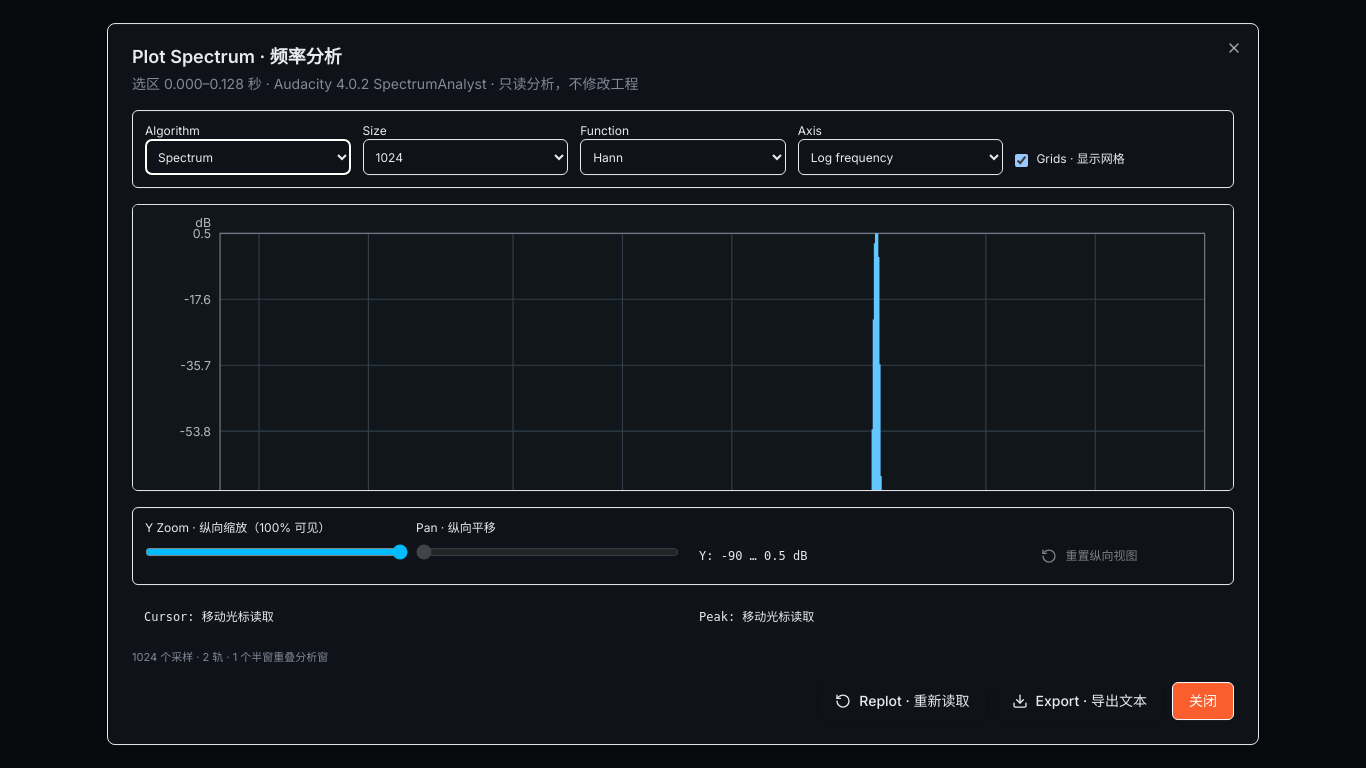
Test: PlotSpectrumDialog › loads real selected PCM with official defaults and exposes plot, algorithm and export controls
Expected: the picture named "Spectrum 频谱分析图，1 个分析窗" is shown, top-left (141, 213), bottom-right (1225, 492)
Expected: the dropdown named "FFT Size" shows "1024", top-left (363, 139), bottom-right (568, 175)
Select "Standard Autocorrelation" in the dropdown named "分析算法" at (248, 157), box top-left (145, 139), bottom-right (351, 175)
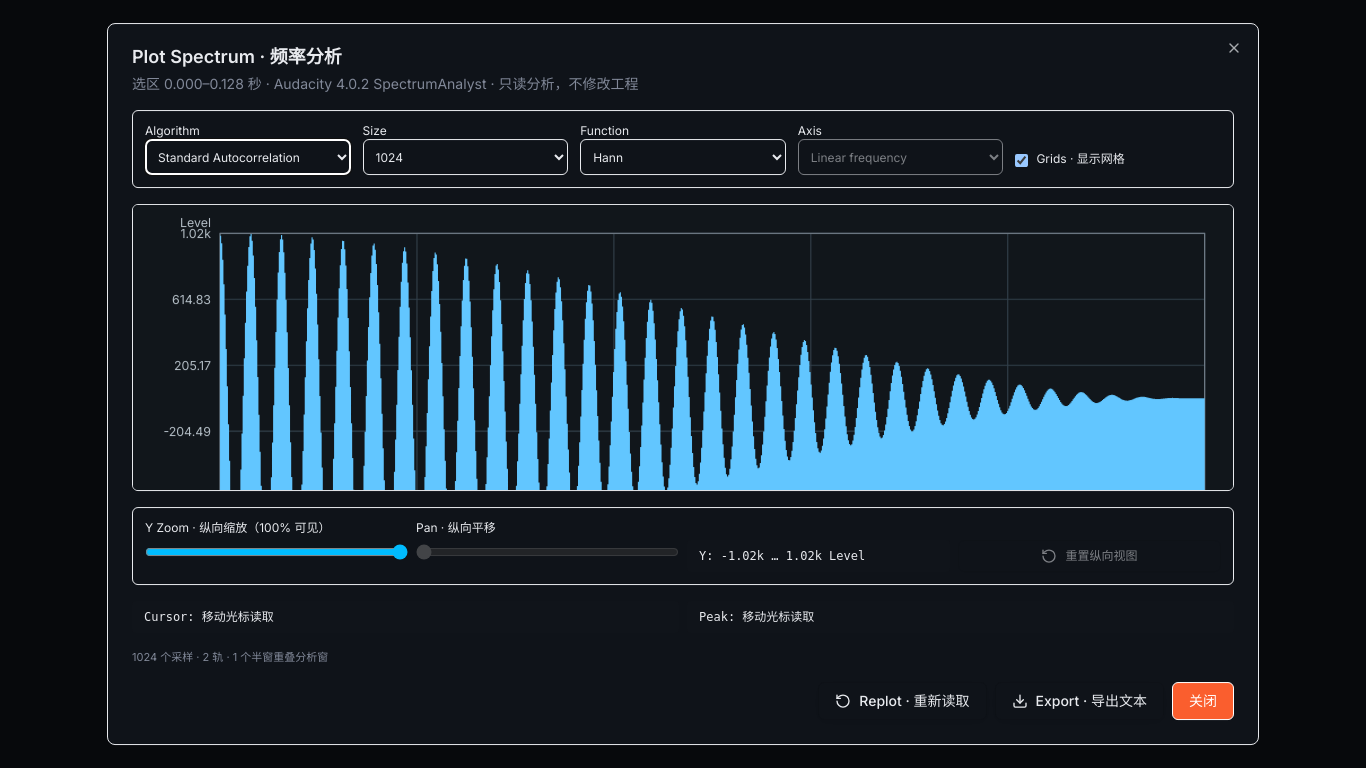
Expected: the picture named "Standard Autocorrelation" is shown, top-left (141, 213), bottom-right (1225, 492)
Expected: the dropdown named "频率轴" is disabled, top-left (798, 139), bottom-right (1003, 175)
Expected: the dropdown named "频率轴" shows "Linear frequency", top-left (798, 139), bottom-right (1003, 175)
Select "2048" in the dropdown named "FFT Size" at (465, 157), box top-left (363, 139), bottom-right (568, 175)
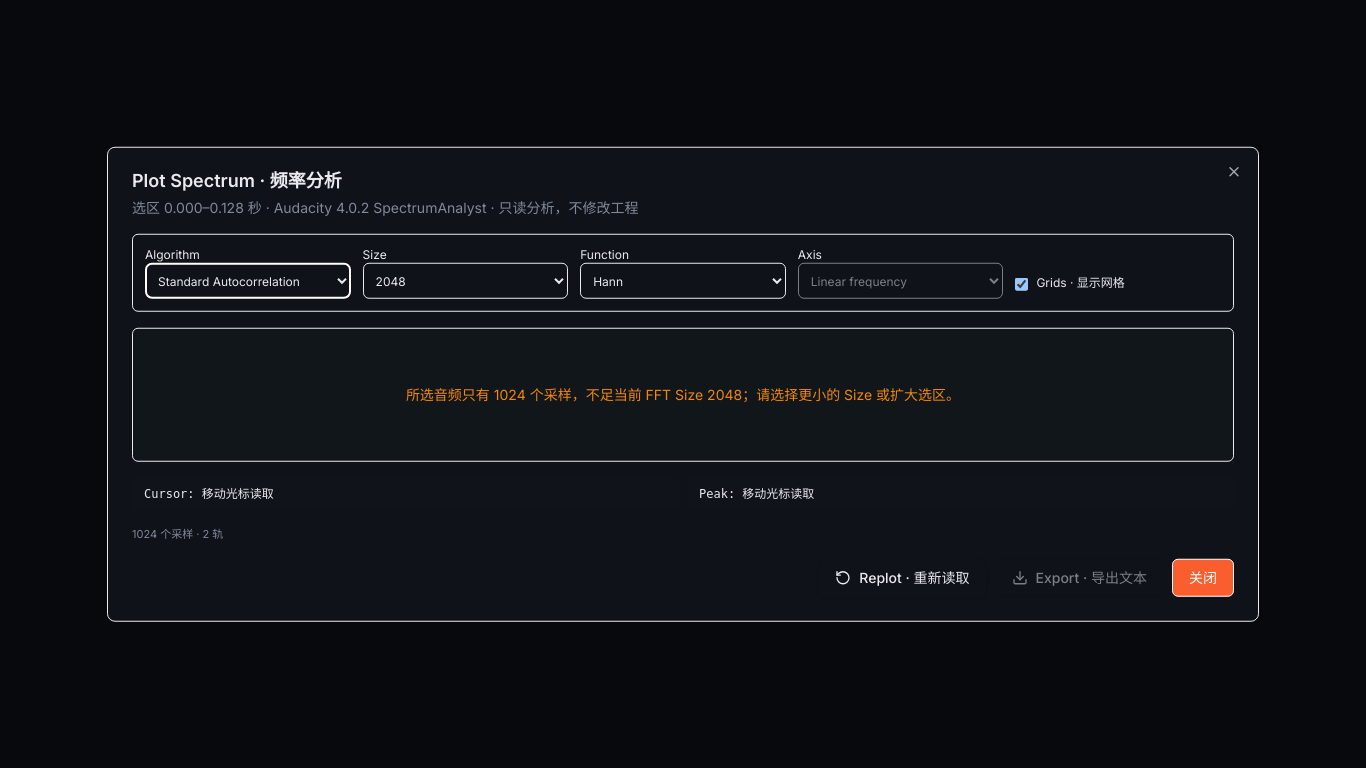
Expected: the text "所选音频只有 1024 个采样，不足当前 FFT Size 2048；请选择更小的 Size 或扩大选区。" is shown, top-left (406, 386), bottom-right (960, 403)
Expected: the button "Export · 导出文本" is disabled, top-left (994, 558), bottom-right (1164, 596)
